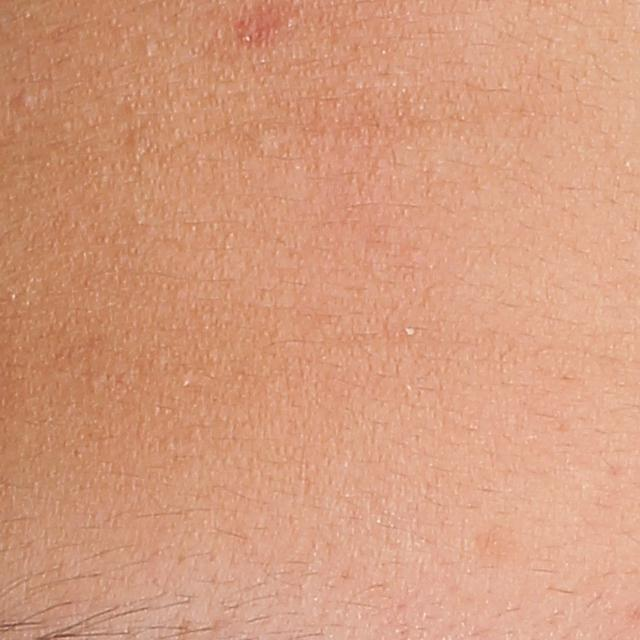comedo: (15, 85, 40, 110), (141, 41, 158, 61)
